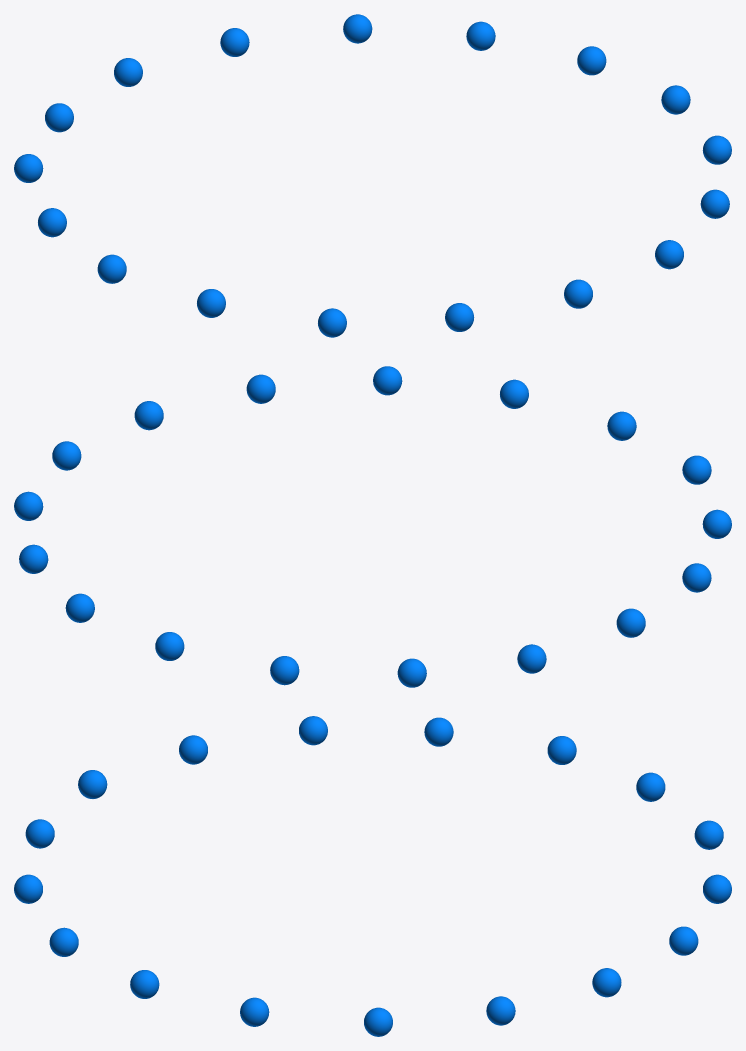
3 renders of one model, top to bottom at view 1: azimuth 30°, elevation 25°; view 2: azimuth 150°, elevation 25°; view 3: azimuth 270°, elevation 25°, orthographic.
Visible parts, largest first — view 1: Sphere052; view 2: Sphere052; view 3: Sphere052.
Boxes of the visible parts, bbox=[...] form: Sphere052: bbox=[14, 14, 731, 337]; Sphere052: bbox=[14, 366, 731, 687]; Sphere052: bbox=[14, 716, 731, 1036].
Size of the model in its own units: 202 by 8.22 by 202.
